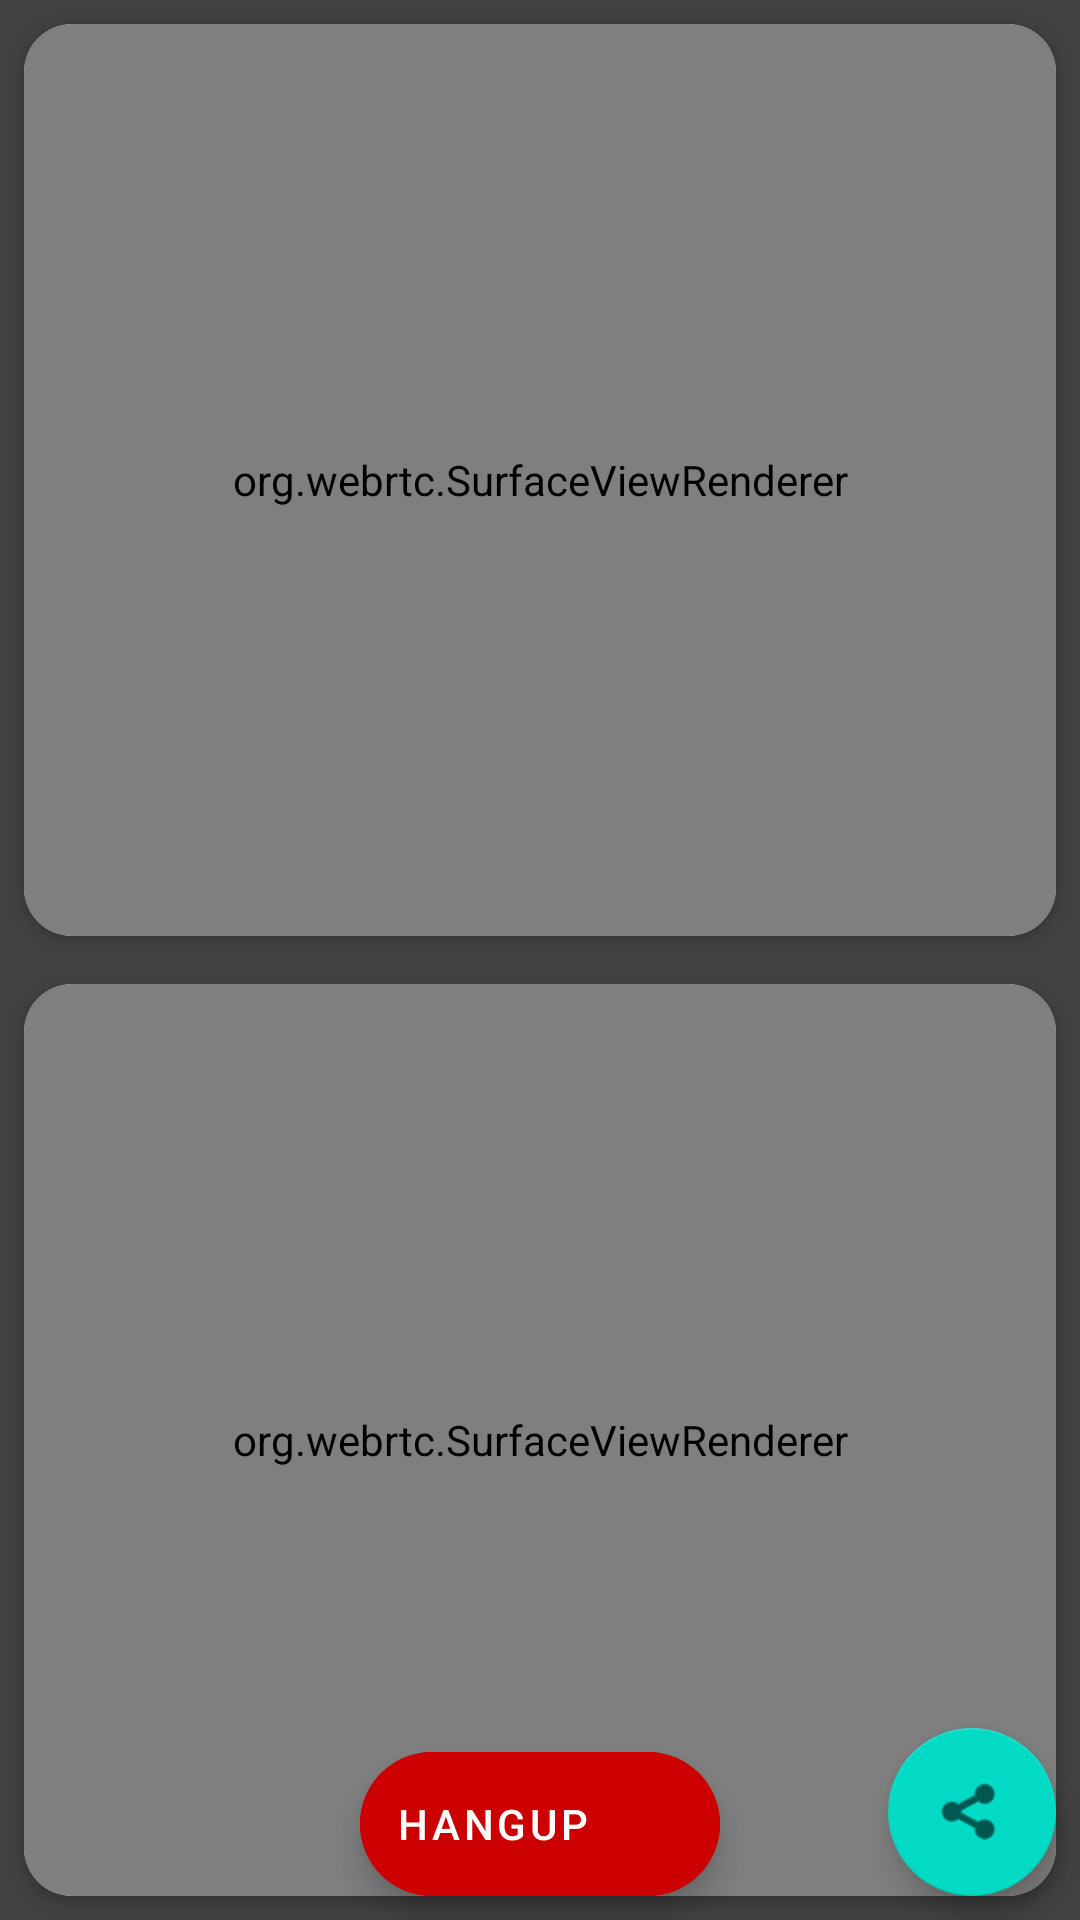

Point at icon controls on the screen. Image size 1080*1920, points as point (x, y).
share: point (972, 1812)
